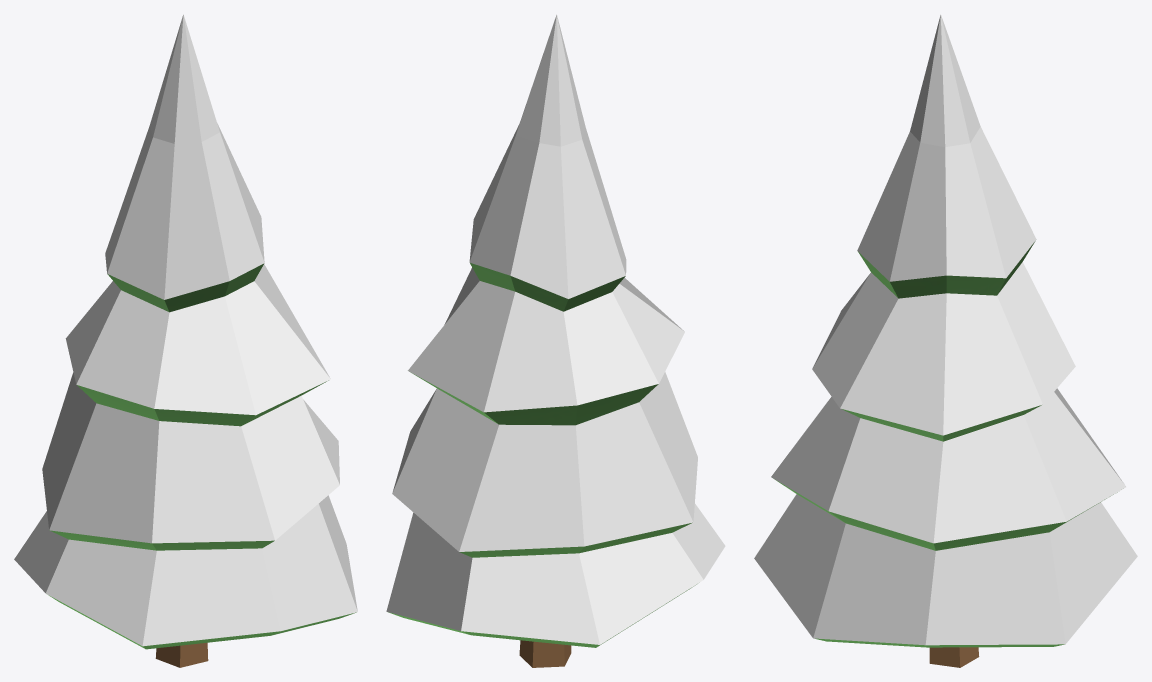
Rendered from Fir_Tree_m_Snow_03.fbx.
The picture shows the model from 3 angles, left to right: view 1: azimuth 30°, elevation 25°; view 2: azimuth 150°, elevation 25°; view 3: azimuth 270°, elevation 25°; orthographic projection.
Parts seen in each view (by area): view 1: Fir_Tree_m_Snow_03; view 2: Fir_Tree_m_Snow_03; view 3: Fir_Tree_m_Snow_03.
Part boxes in pixels (left/top/right/bottom): Fir_Tree_m_Snow_03: left=14, top=14, right=357, bottom=667; Fir_Tree_m_Snow_03: left=386, top=14, right=725, bottom=667; Fir_Tree_m_Snow_03: left=754, top=14, right=1137, bottom=667.
Size of the model in its own units: 374 by 776 by 421.
